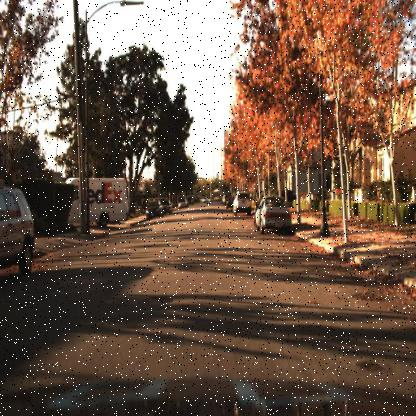car: (60, 174, 130, 230), (250, 193, 294, 238), (229, 188, 254, 219), (144, 197, 164, 223), (160, 193, 175, 218)
truck: (54, 165, 130, 232)
